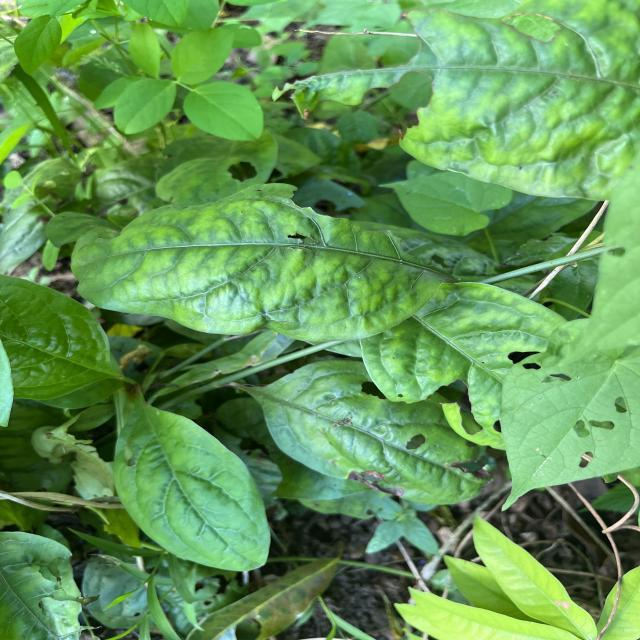Plumbago indica: (58, 178, 488, 344), (248, 353, 501, 508), (106, 406, 274, 576)
